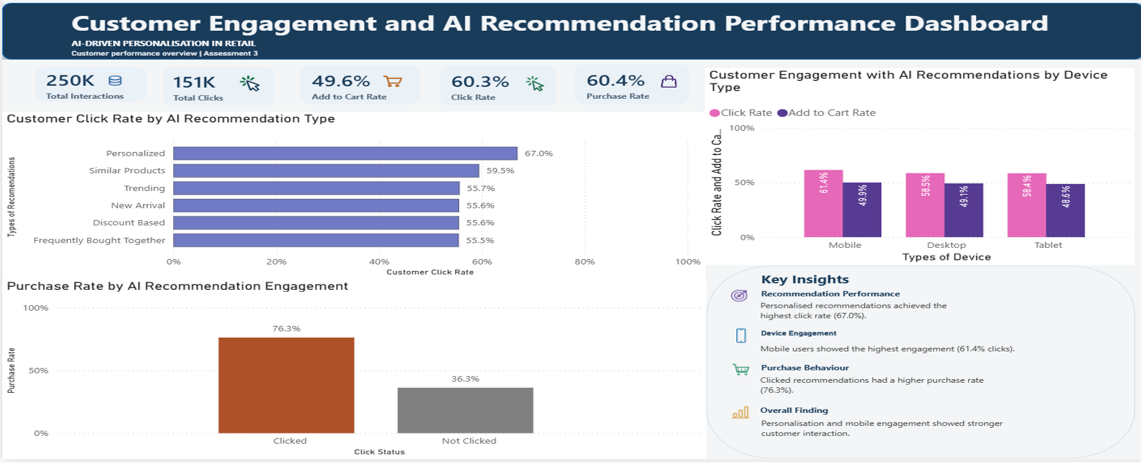

This screenshot's page, from the dashboard's own definition file:
{"tool":"powerbi","page":{"name":"Customer Dashboard","canvas":[1280,720],"ordinal":1},"visuals":[{"type":"cardVisual","fields":{"Data":["RetailData.Purchase Rate"]},"box":[625.5,95.5,162.7,95.5],"z":0},{"type":"cardVisual","fields":{"Data":["RetailData.Add to Cart Rate"]},"box":[317.3,97.3,169.2,93.1],"z":1000},{"type":"shape","box":[0,18.3,1280,86.7],"z":2000},{"type":"textbox","title":"Customer Engagement & Purchase Behaviour","box":[238.3,28.3,785,46.7],"z":4000},{"type":"textbox","title":"AI-DRIVEN PERSONALISATION IN RETAIL","box":[238.9,72.2,686.9,18.5],"z":4500},{"type":"cardVisual","fields":{"Data":["RetailData.Total Interactions"]},"box":[20,98.7,159.3,88.7],"z":6000},{"type":"textbox","title":"Customer performance overview | Assessment 3","box":[238.9,90,470.8,12.3],"z":6500},{"type":"clusteredColumnChart","title":"Customer Engagement with AI Recommendations by Device Type","fields":{"Category":["RetailData.device_type"],"Y":["RetailData.Click Rate","RetailData.Add to Cart Rate"]},"box":[788.3,118.3,481.7,303.3],"z":7000},{"type":"clusteredBarChart","title":"Customer Click Rate by AI Recommendation Type","fields":{"Category":["RetailData.recommendation_type"],"Y":["RetailData.Click Rate"]},"box":[0,185.7,788.6,257.1],"z":8000},{"type":"clusteredColumnChart","title":"Purchase Rate by AI Recommendation Engagement","fields":{"Category":["RetailData.Click Status"],"Y":["RetailData.Purchase Rate"]},"box":[0,442.9,790,275.7],"z":9000},{"type":"image","box":[100,119.3,50.7,34.7],"z":10000},{"type":"image","box":[413,119,52.7,37.3],"z":11000},{"type":"image","box":[725,119,47.3,39.1],"z":12000},{"type":"cardVisual","fields":{"Data":["RetailData.Click Rate"]},"box":[474,96,166,97],"z":13000},{"type":"image","box":[574,123,51,39],"z":14000},{"type":"cardVisual","fields":{"Data":["RetailData.Total Clicks"]},"box":[161.5,98.5,162.5,95],"z":15000},{"type":"image","box":[259,122,39.1,40.9],"z":16000},{"type":"shape","box":[790,422.2,481.1,296.7],"z":17000},{"type":"textbox","title":"Key Insights","box":[846.2,430,224,38],"z":17501},{"type":"image","box":[808,453,36.2,31.2],"z":17502},{"type":"textbox","title":"Recommendation Performance","box":[846.2,457.7,293.8,18.8],"z":17503},{"type":"textbox","title":"Personalised recommendations achieved the highest click rate (67.0%).","box":[845.7,475.7,248.6,37.1],"z":17504},{"type":"textbox","title":"Device Engagement","box":[846.2,520,300,18.6],"z":17505},{"type":"textbox","title":"Purchase Behaviour","box":[846.7,571.1,300,18.6],"z":17506},{"type":"textbox","title":"Overall Finding","box":[845.6,636.7,300,20],"z":17507},{"type":"textbox","title":"Mobile users showed the highest engagement (61.4% clicks).","box":[845.6,542.2,300,20],"z":17508},{"type":"textbox","title":"Clicked recommendations had a higher purchase rate (76.3%).","box":[845.6,590,300,36.7],"z":17509},{"type":"textbox","title":"Personalisation and mobile engagement showed stronger customer interaction.","box":[846.7,656.7,300,32.2],"z":17510},{"type":"image","box":[811.2,515,35,28],"z":17511},{"type":"image","box":[815,566,27,30],"z":17512},{"type":"image","box":[812.7,632.7,30.9,27.3],"z":17513}]}

Visuals, with their boxes on the page's 1280x720 design canvas (x1, y1, x2, y2). These are canvas units, not pixel positions in the 1141x463 screenshot, which may show the page scaled, cropped or inside an application window:
cardVisual - RetailData.Purchase Rate: (x1=626, y1=96, x2=788, y2=191)
cardVisual - RetailData.Add to Cart Rate: (x1=317, y1=97, x2=486, y2=190)
shape: (x1=0, y1=18, x2=1280, y2=105)
"Customer Engagement & Purchase Behaviour" textbox: (x1=238, y1=28, x2=1023, y2=75)
"AI-DRIVEN PERSONALISATION IN RETAIL" textbox: (x1=239, y1=72, x2=926, y2=91)
cardVisual - RetailData.Total Interactions: (x1=20, y1=99, x2=179, y2=187)
"Customer performance overview | Assessment 3" textbox: (x1=239, y1=90, x2=710, y2=102)
"Customer Engagement with AI Recommendations by Device Type" clusteredColumnChart: (x1=788, y1=118, x2=1270, y2=422)
"Customer Click Rate by AI Recommendation Type" clusteredBarChart: (x1=0, y1=186, x2=789, y2=443)
"Purchase Rate by AI Recommendation Engagement" clusteredColumnChart: (x1=0, y1=443, x2=790, y2=719)
image: (x1=100, y1=119, x2=151, y2=154)
image: (x1=413, y1=119, x2=466, y2=156)
image: (x1=725, y1=119, x2=772, y2=158)
cardVisual - RetailData.Click Rate: (x1=474, y1=96, x2=640, y2=193)
image: (x1=574, y1=123, x2=625, y2=162)
cardVisual - RetailData.Total Clicks: (x1=162, y1=98, x2=324, y2=194)
image: (x1=259, y1=122, x2=298, y2=163)
shape: (x1=790, y1=422, x2=1271, y2=719)
"Key Insights" textbox: (x1=846, y1=430, x2=1070, y2=468)
image: (x1=808, y1=453, x2=844, y2=484)
"Recommendation Performance" textbox: (x1=846, y1=458, x2=1140, y2=476)
"Personalised recommendations achieved the highest click rate (67.0%)." textbox: (x1=846, y1=476, x2=1094, y2=513)
"Device Engagement" textbox: (x1=846, y1=520, x2=1146, y2=539)
"Purchase Behaviour" textbox: (x1=847, y1=571, x2=1147, y2=590)
"Overall Finding" textbox: (x1=846, y1=637, x2=1146, y2=657)
"Mobile users showed the highest engagement (61.4% clicks)." textbox: (x1=846, y1=542, x2=1146, y2=562)
"Clicked recommendations had a higher purchase rate (76.3%)." textbox: (x1=846, y1=590, x2=1146, y2=627)
"Personalisation and mobile engagement showed stronger customer interaction." textbox: (x1=847, y1=657, x2=1147, y2=689)
image: (x1=811, y1=515, x2=846, y2=543)
image: (x1=815, y1=566, x2=842, y2=596)
image: (x1=813, y1=633, x2=844, y2=660)
